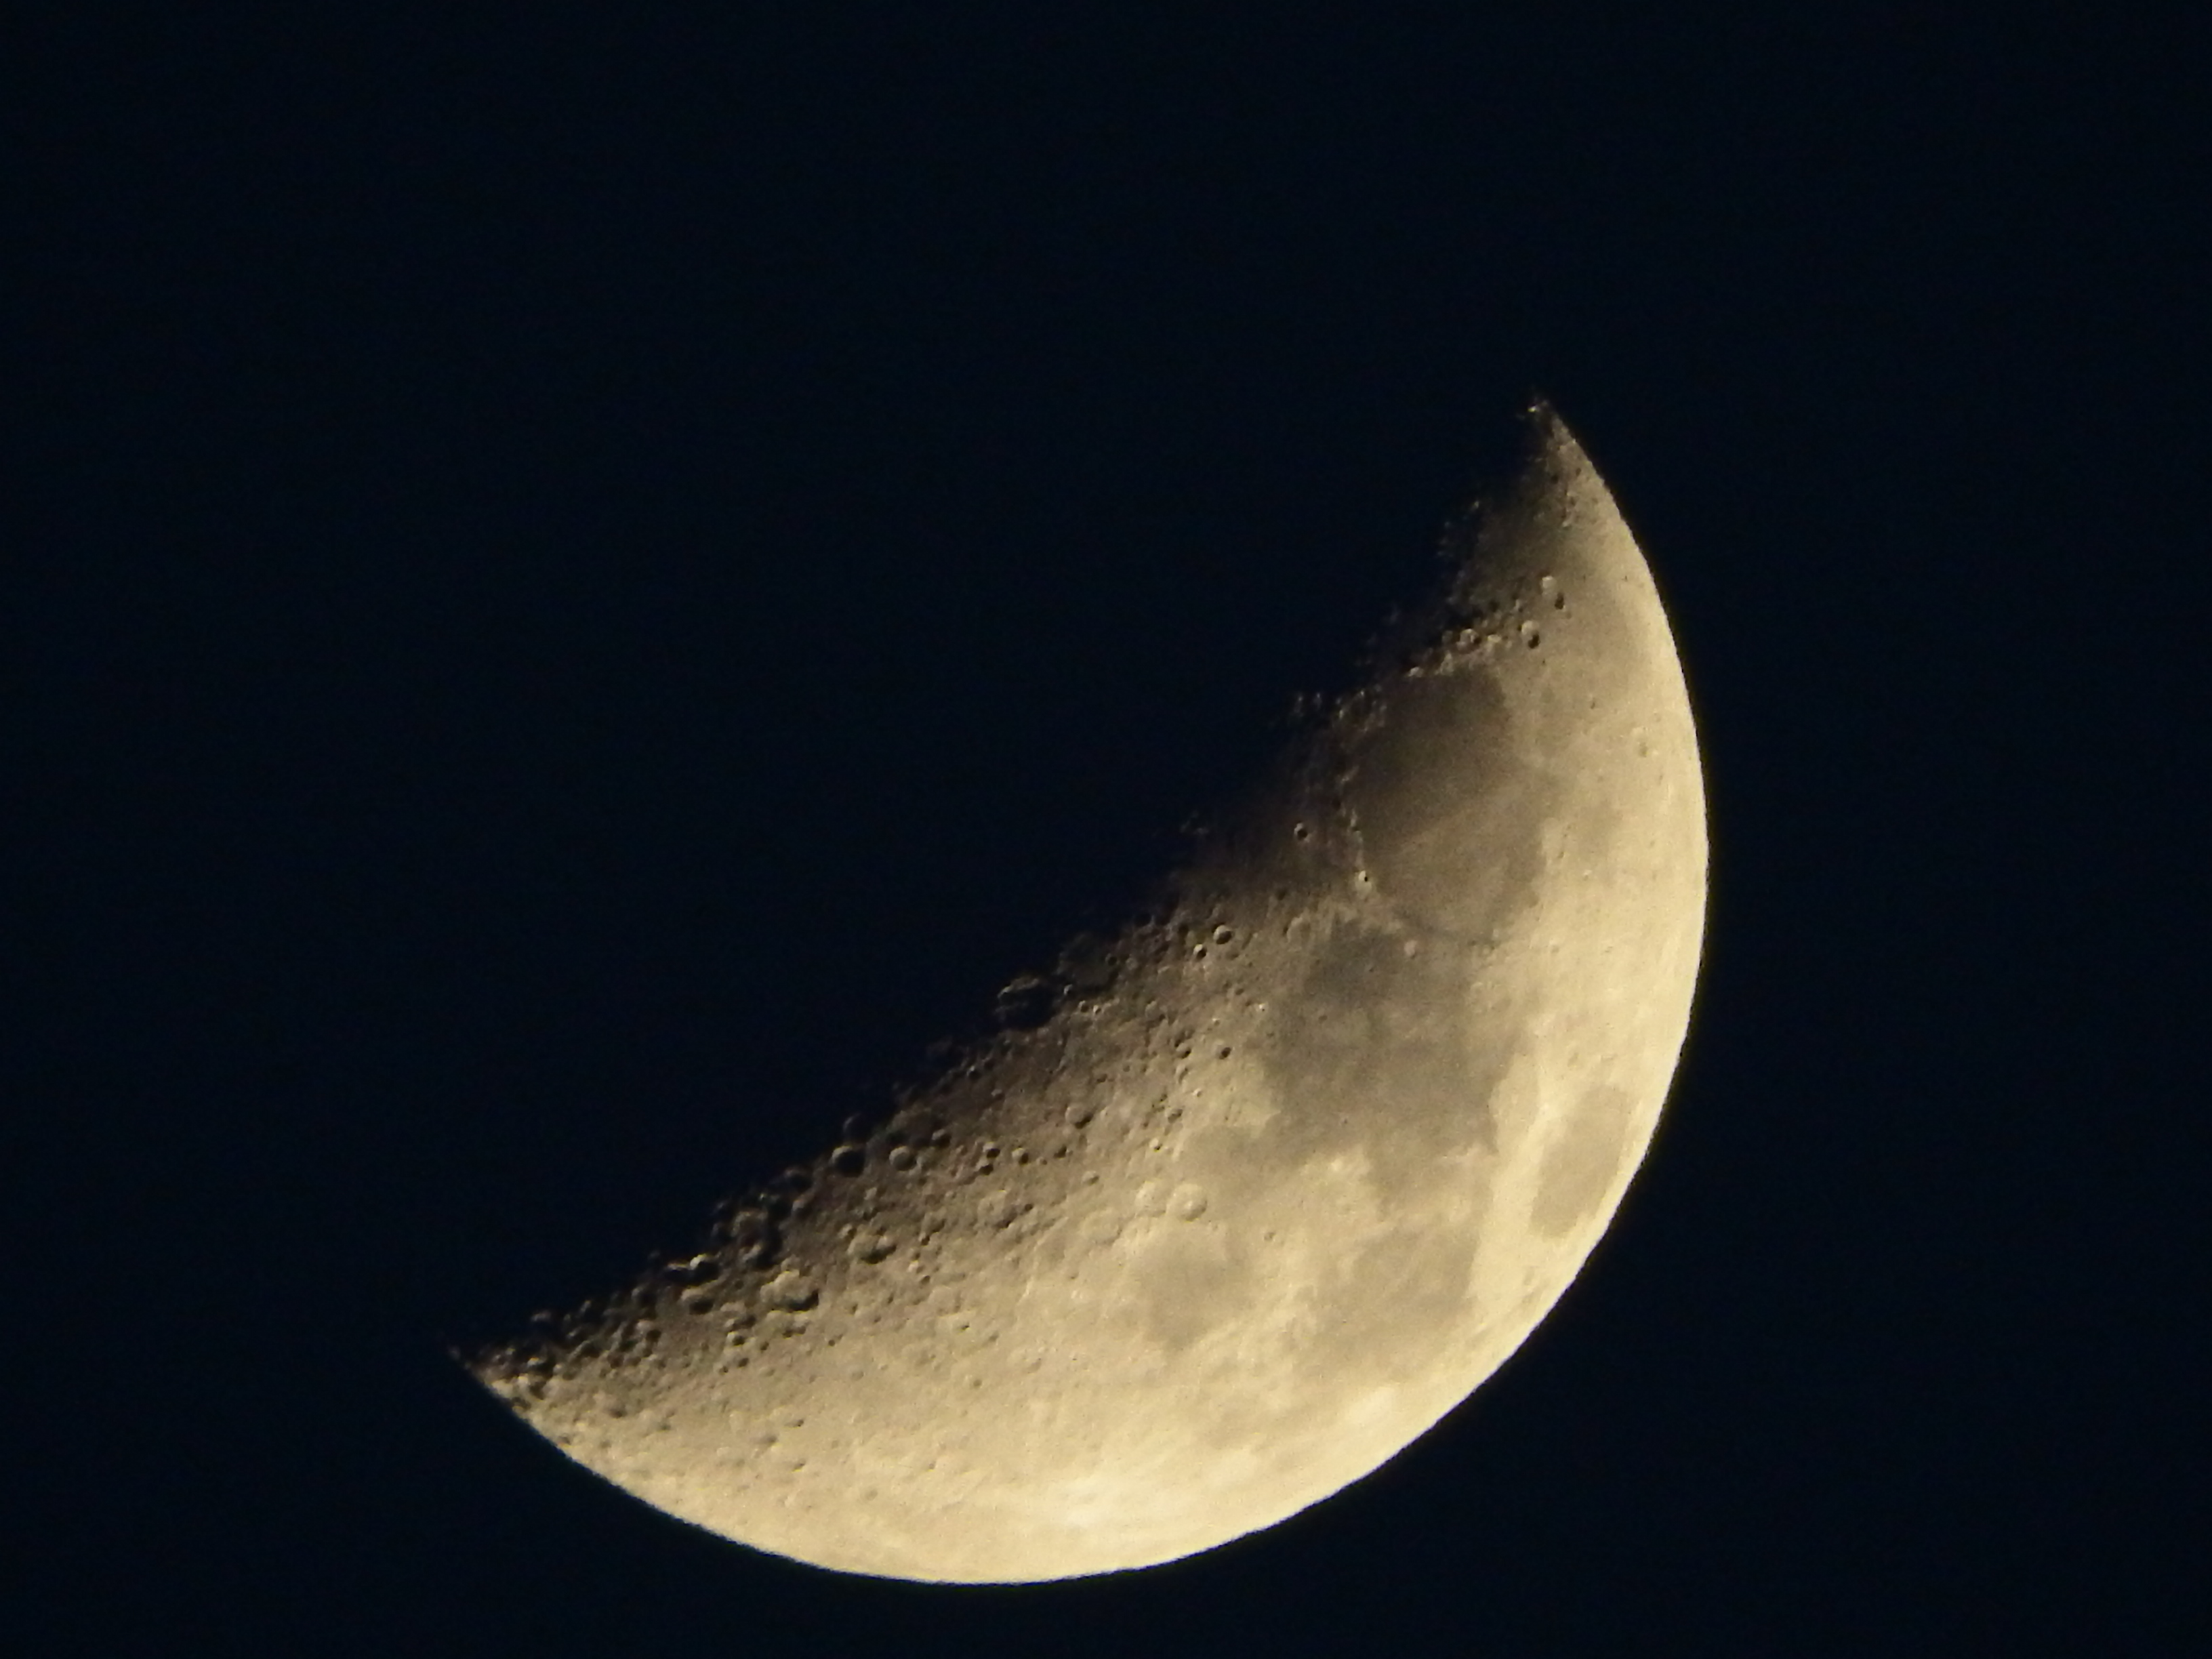crater: (1341, 650, 1588, 979), (974, 958, 1066, 1056), (1158, 1169, 1223, 1234), (1538, 565, 1595, 627), (1198, 1021, 1240, 1070)
